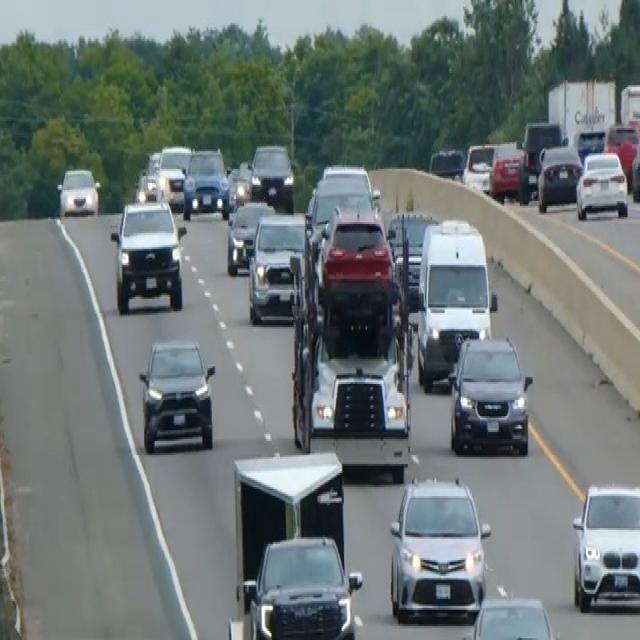car: (242, 532, 362, 638), (447, 332, 533, 457), (316, 201, 395, 325), (138, 334, 216, 454), (570, 480, 639, 613), (109, 195, 186, 313), (246, 210, 313, 324), (386, 208, 439, 302), (459, 590, 558, 636), (517, 117, 563, 203), (225, 198, 275, 276), (575, 150, 628, 220), (182, 146, 230, 220), (536, 142, 582, 212), (249, 140, 294, 210), (603, 119, 639, 183), (156, 142, 191, 206), (57, 165, 100, 217), (488, 141, 524, 199), (462, 140, 494, 194), (134, 149, 161, 201), (428, 144, 464, 181), (573, 125, 606, 164), (233, 158, 253, 203), (630, 137, 639, 201)
lorry: (288, 220, 414, 480)
minibus: (414, 215, 497, 389)
minivan: (387, 471, 492, 624)
truck: (227, 448, 363, 638)
